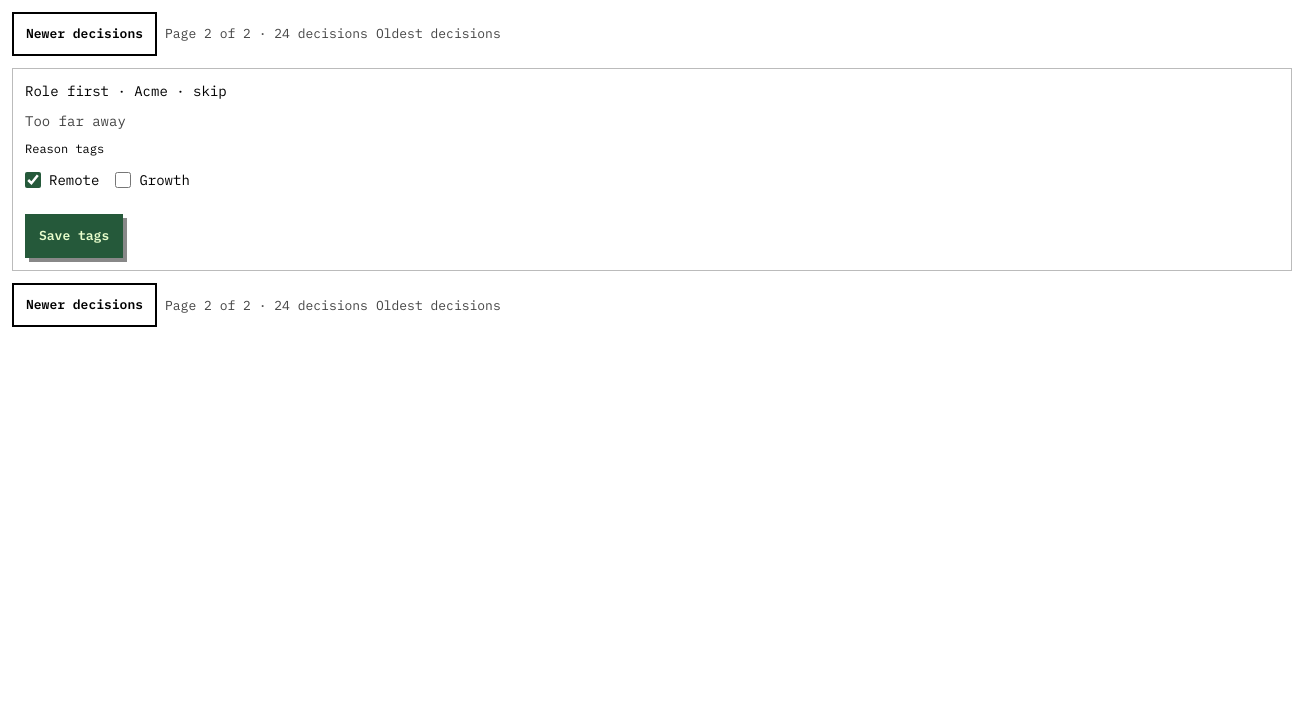
Test: keeps a refused stale draft and does not submit a removed decision without its original guard
The image size is (1292, 720).
Click the checkbox labelled "Growth" at (123, 180), box [115,172,131,188]
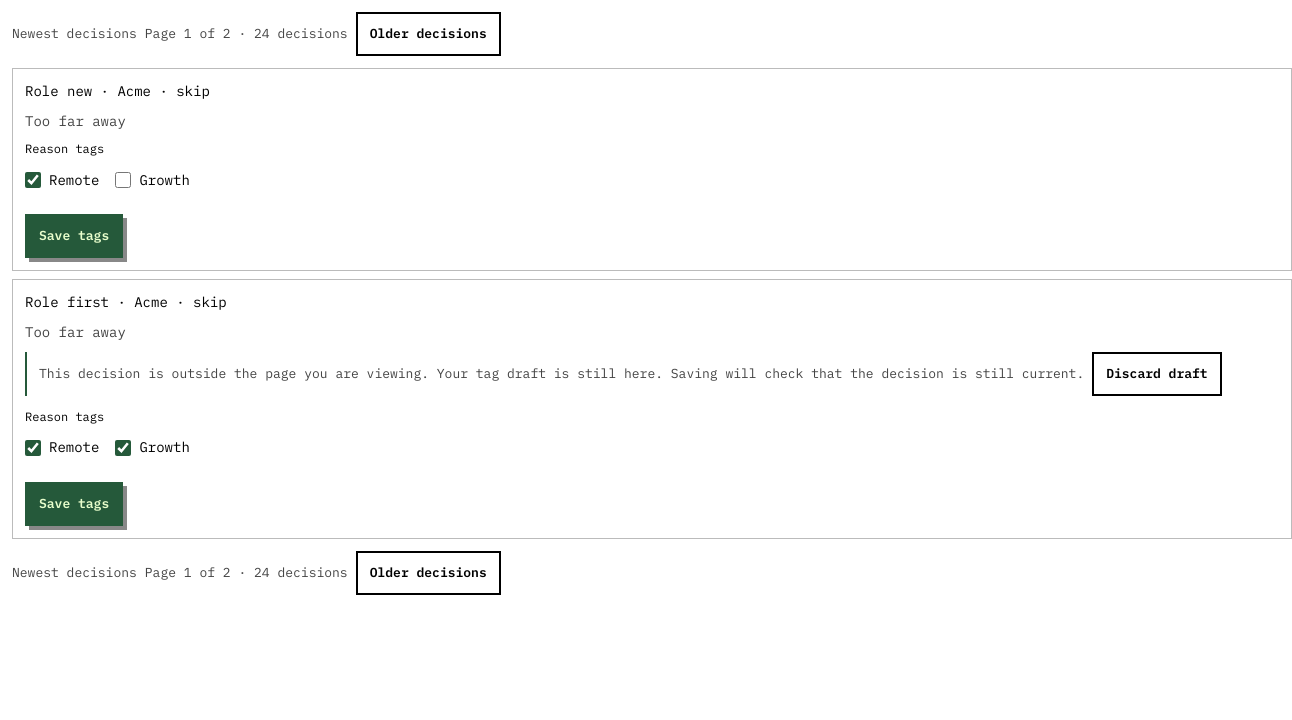
Click the button "Save tags" below "Role first" at (74, 504), box [25,482,123,526]
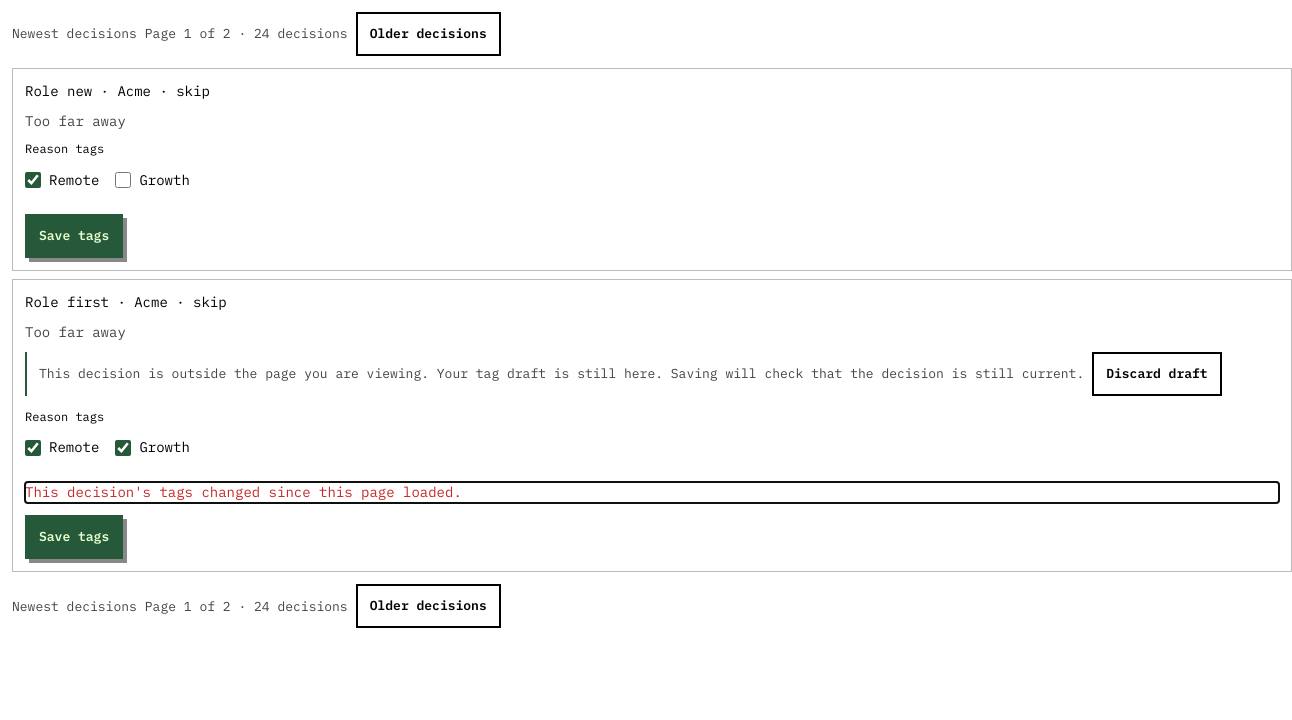
Check: the message "This decision's tags changed since this page loaded." is shown, box [25,483,462,501]
